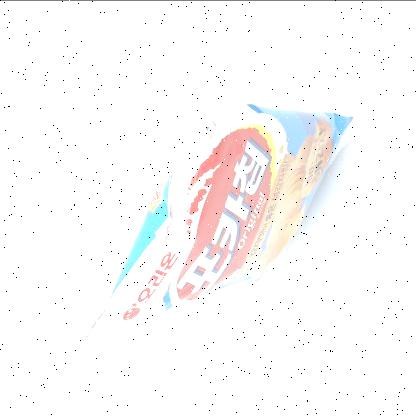Others: (68, 78, 380, 348)
